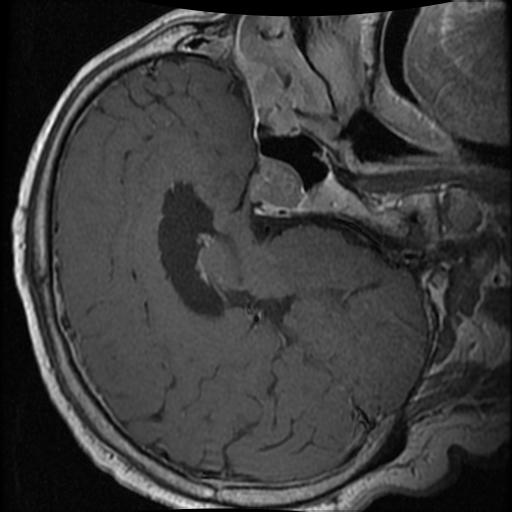pituitary tumour: (250, 156, 304, 207)
